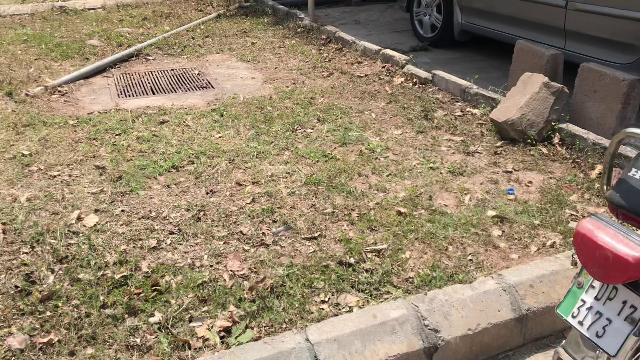plate: (556, 261, 640, 360)
